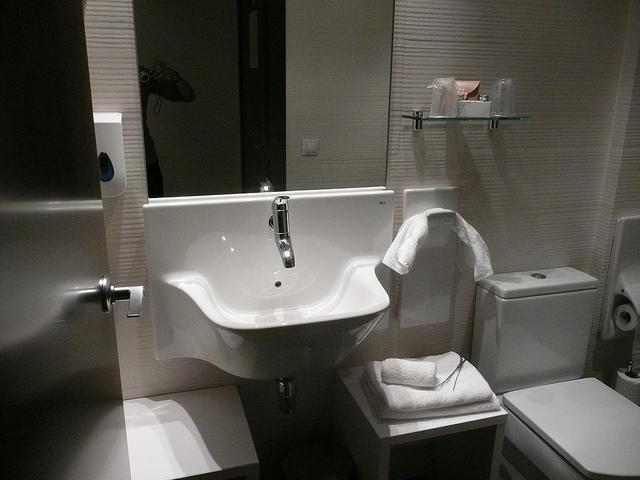Lavamanos: (138, 190, 396, 384)
Sanitario: (471, 263, 639, 479)
